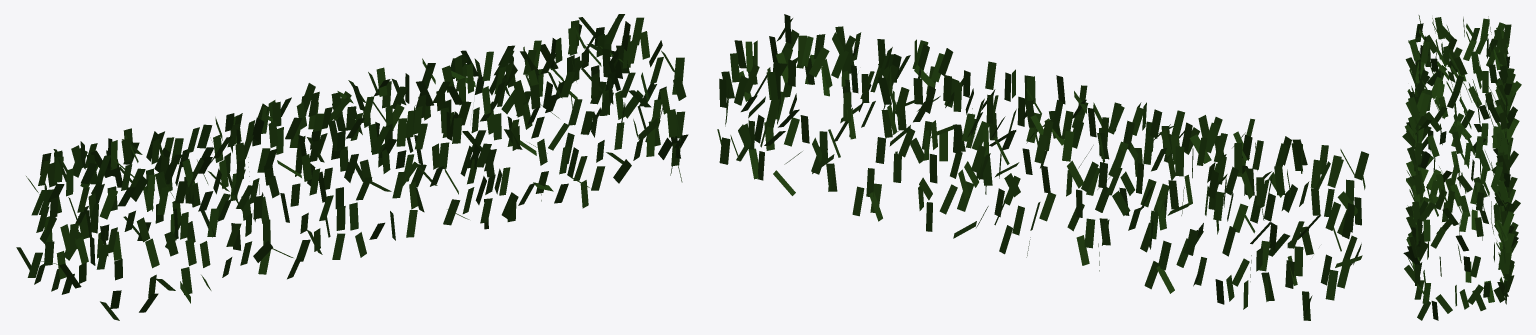
The model's file is WallHedge4.obj.
3 renders of one model, left to right at view 1: azimuth 30°, elevation 25°; view 2: azimuth 150°, elevation 25°; view 3: azimuth 270°, elevation 25°, orthographic. The views are drawn at different scales.
Parts seen in each view (by area): view 1: WallHedge4_Cube.035; view 2: WallHedge4_Cube.035; view 3: WallHedge4_Cube.035.
Boxes of the visible parts, x1,y1,x2,y2 form: WallHedge4_Cube.035: [16, 14, 688, 320]; WallHedge4_Cube.035: [717, 14, 1368, 320]; WallHedge4_Cube.035: [1402, 15, 1521, 320].
Bounding box in the file's own units: 4.76 × 0.9822 × 1.09.
